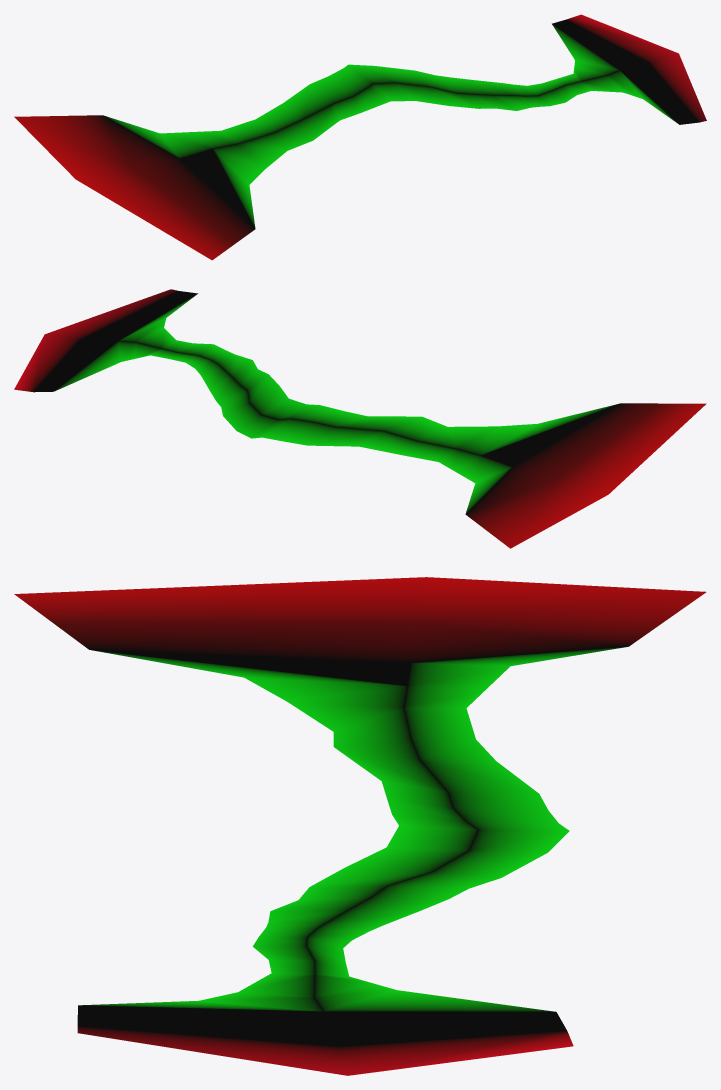
File: SM_TopDownRiver_02.fbx
3 views of the same model, one above another, from view 1: azimuth 30°, elevation 25°; view 2: azimuth 150°, elevation 25°; view 3: azimuth 270°, elevation 25° (orthographic). The views are drawn at different scales.
Parts seen in each view (by area): view 1: SM_TopDownRiver_02; view 2: SM_TopDownRiver_02; view 3: SM_TopDownRiver_02.
Boxes of the visible parts, x1,y1,x2,y2 form: SM_TopDownRiver_02: (14,14,706,260); SM_TopDownRiver_02: (14,289,706,548); SM_TopDownRiver_02: (14,577,706,1075).
Bounding box in the file's own units: 2954 × 46.84 × 1730.
